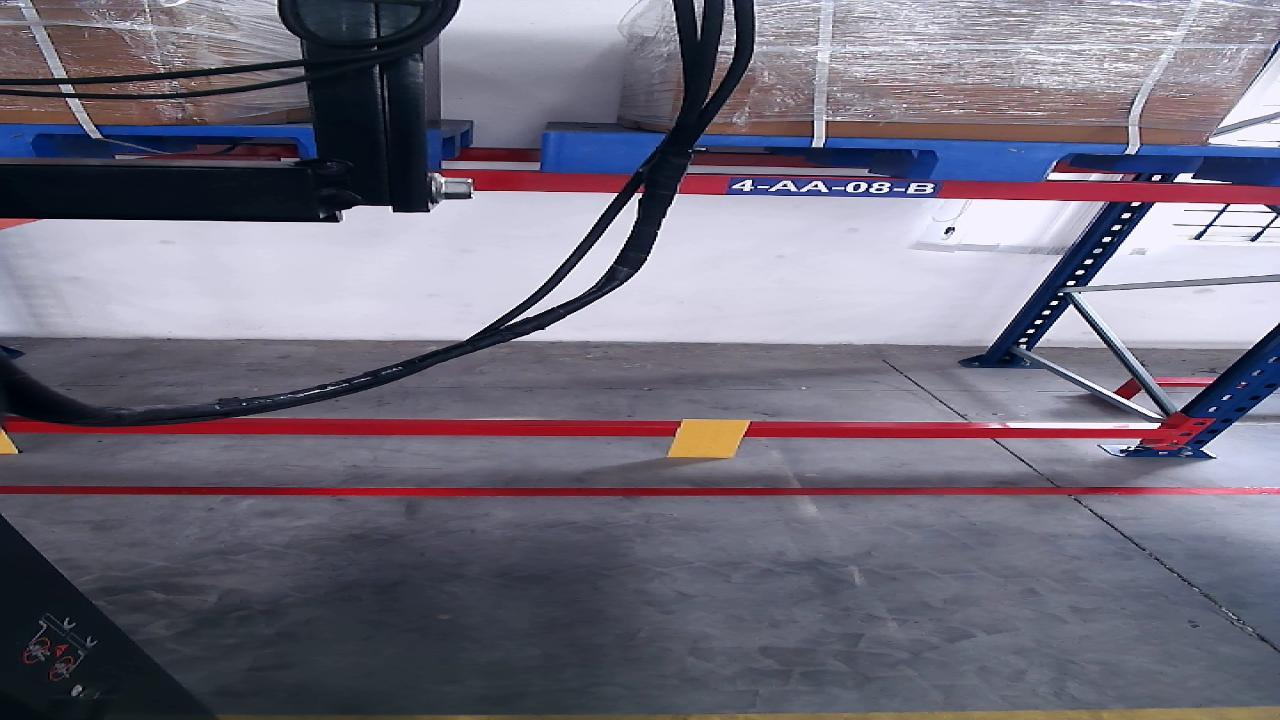h_rack: (474, 172, 1276, 203), (3, 423, 1169, 438)
orange_strip: (667, 420, 751, 457)
small_pallet: (541, 131, 1279, 186)
